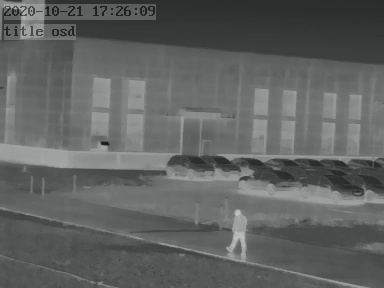person: (225, 207, 247, 255)
vehicle: (305, 173, 360, 200), (239, 169, 302, 191), (165, 153, 212, 178), (204, 153, 242, 177), (349, 173, 382, 200), (233, 154, 270, 171), (262, 155, 296, 169), (348, 156, 380, 170), (295, 155, 324, 169), (318, 156, 348, 169)
